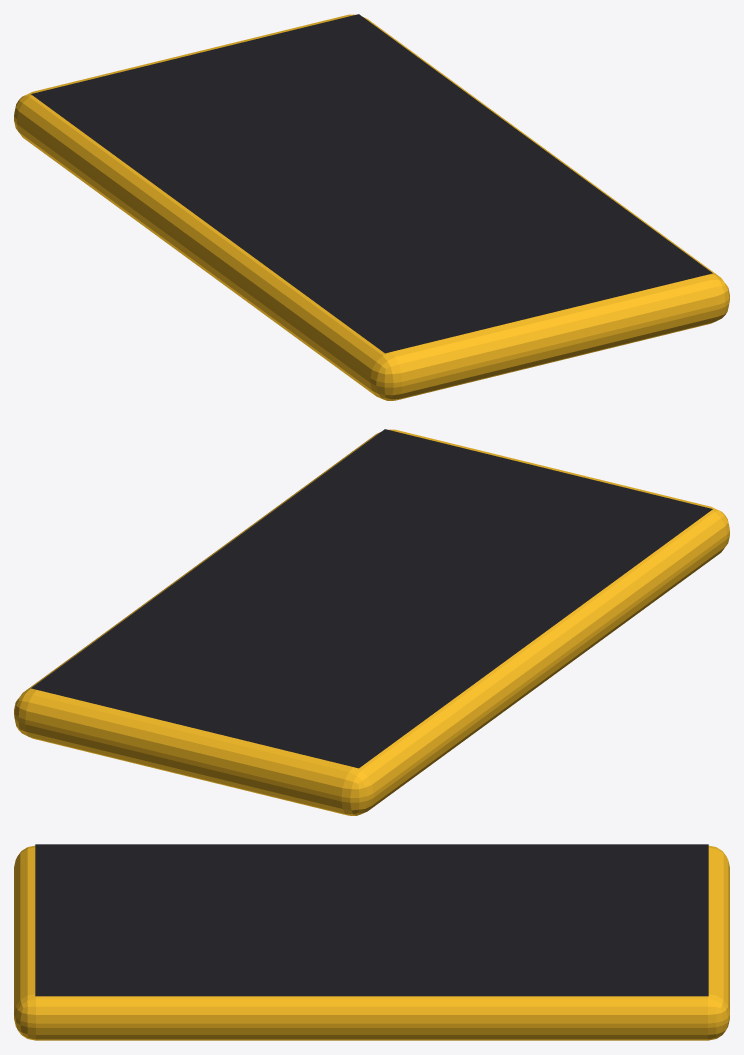
File: Phone_577.glb
3 views of the same model, one above another, from view 1: azimuth 30°, elevation 25°; view 2: azimuth 150°, elevation 25°; view 3: azimuth 270°, elevation 25° (orthographic). The views are drawn at different scales.
Parts seen in each view (by area): view 1: Phone_Screen, Phone_Body; view 2: Phone_Screen, Phone_Body; view 3: Phone_Screen, Phone_Body.
Boxes of the visible parts, bbox=[...] form: Phone_Screen: bbox=[31, 14, 712, 353]; Phone_Body: bbox=[14, 14, 729, 400]; Phone_Screen: bbox=[31, 429, 712, 768]; Phone_Body: bbox=[14, 429, 729, 815]; Phone_Screen: bbox=[35, 844, 708, 996]; Phone_Body: bbox=[14, 845, 729, 1040].
Bounding box in the file's own units: 0.0771 × 0.0098 × 0.1411.
